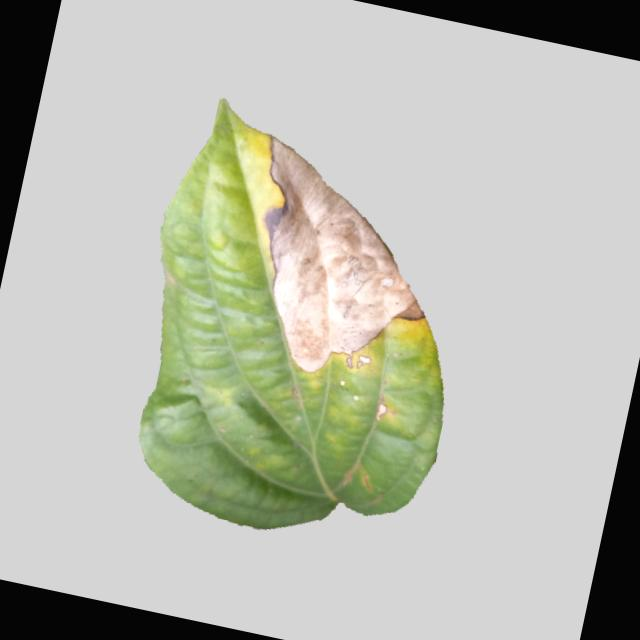leaf-blight: (92, 93, 504, 560)
